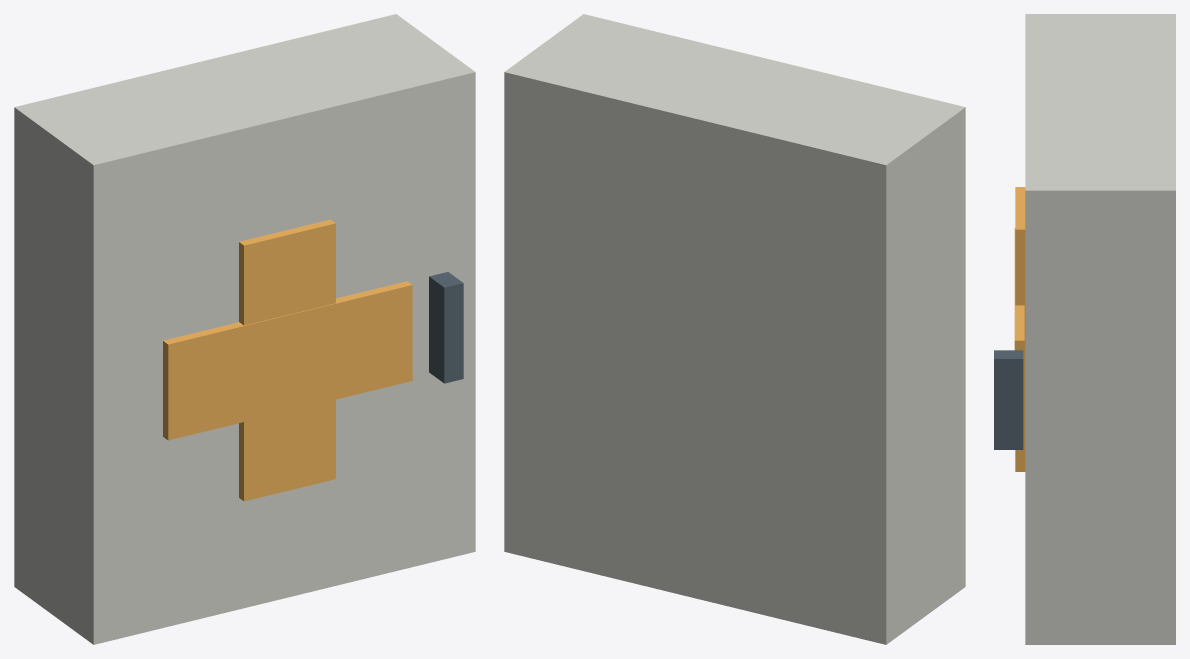
File: football-soccer-club-grounds-first-aid-cabinet-feff73ae.glb
3 views of the same model, side by side, from view 1: azimuth 30°, elevation 25°; view 2: azimuth 150°, elevation 25°; view 3: azimuth 270°, elevation 25° (orthographic). The views are drawn at different scales.
Visible parts, largest first — view 1: first-aid-cabinet; view 2: first-aid-cabinet; view 3: first-aid-cabinet.
Part boxes in pixels (x1,y1,x2,y2): first-aid-cabinet: (14, 14, 475, 644); first-aid-cabinet: (504, 14, 965, 644); first-aid-cabinet: (994, 14, 1175, 644).
Size of the model in its own units: 0.5 by 0.6 by 0.2175.
